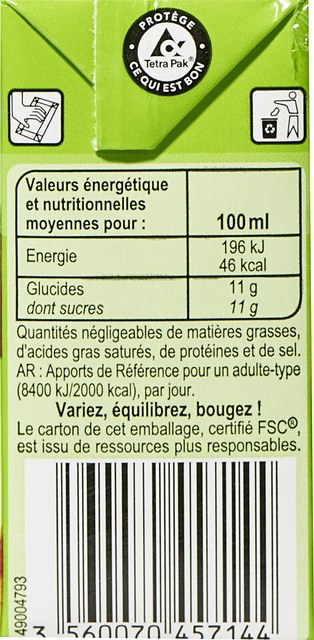Pomme: (16, 32, 298, 608)
